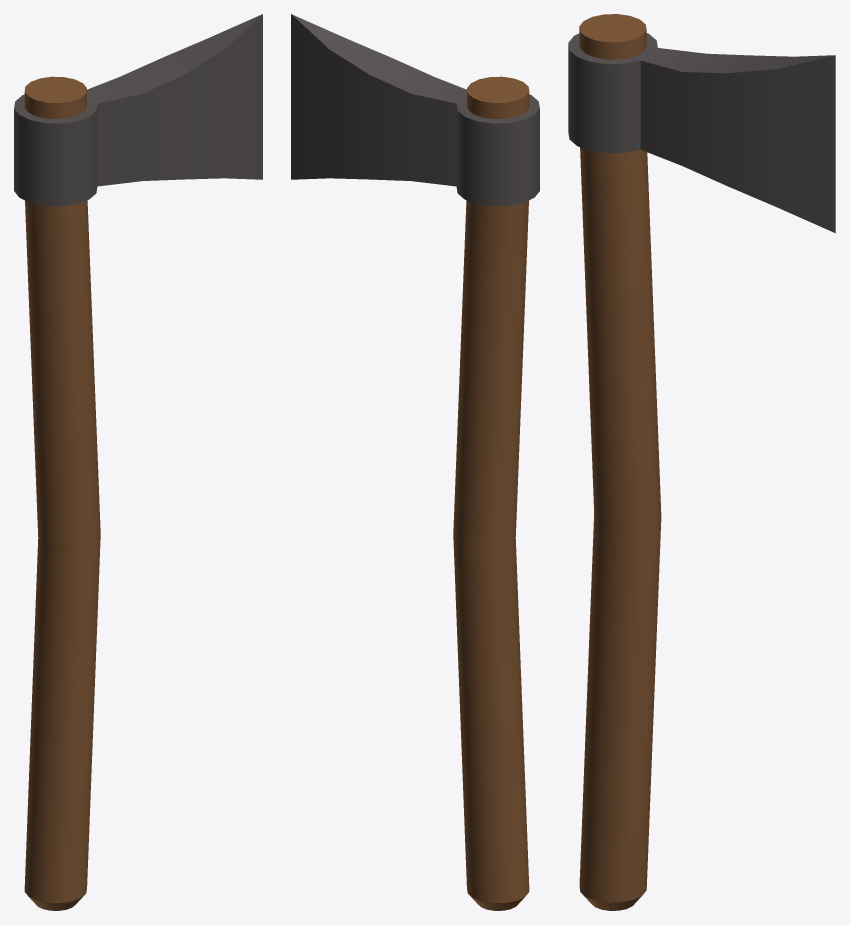
Rendered from ee495876-2537-4e64-8cf7-ffce99c5192e.glb.
The picture shows the model from 3 angles, left to right: view 1: azimuth 30°, elevation 25°; view 2: azimuth 150°, elevation 25°; view 3: azimuth 330°, elevation 25°; orthographic projection. The views are drawn at different scales.
Parts seen in each view (by area): view 1: Hatchet - 292; view 2: Hatchet - 292; view 3: Hatchet - 292.
Boxes of the visible parts, x1=… form: Hatchet - 292: x1=14, y1=14, x2=262, y2=910; Hatchet - 292: x1=291, y1=14, x2=539, y2=910; Hatchet - 292: x1=568, y1=14, x2=835, y2=910.
Size of the model in its own units: 0.2229 by 0.733 by 0.0666.
1 material, 1 textured.
